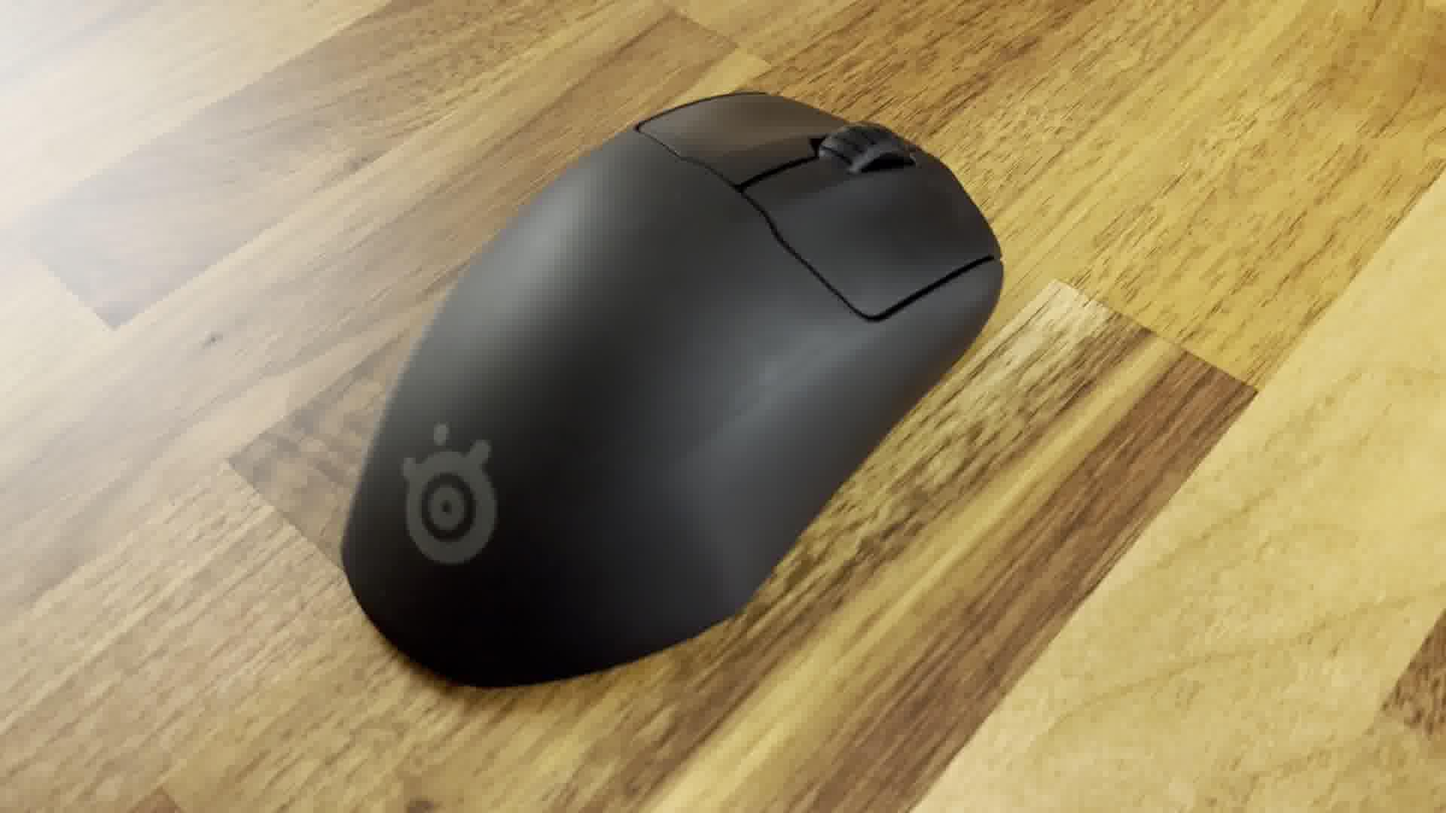steel-series: (338, 80, 1009, 694)
